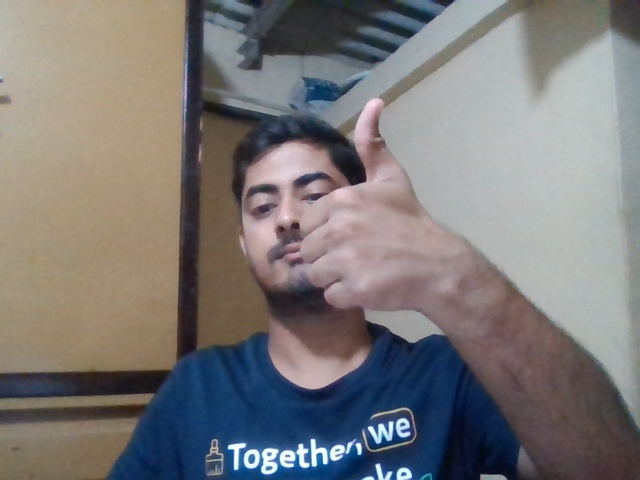ThumbsUp: (299, 97, 436, 310)
